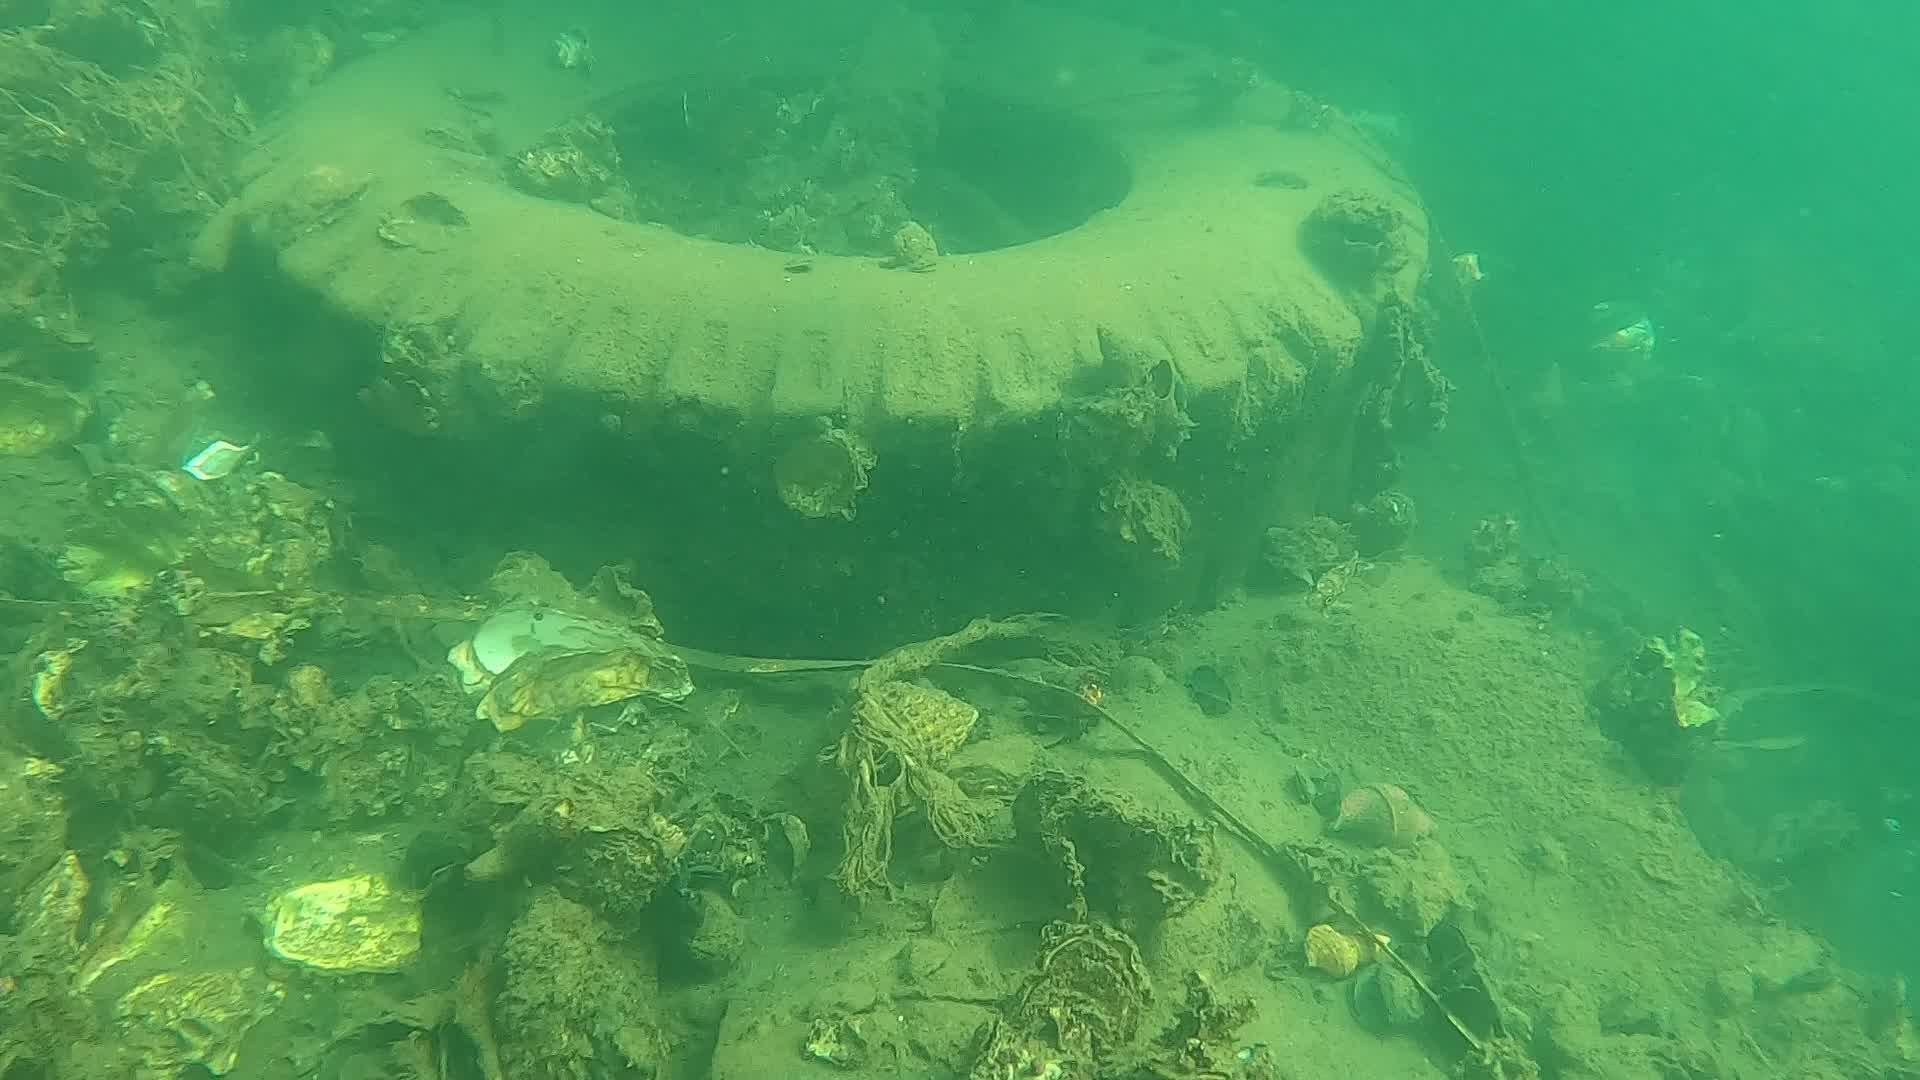tire: (227, 3, 1431, 585)
